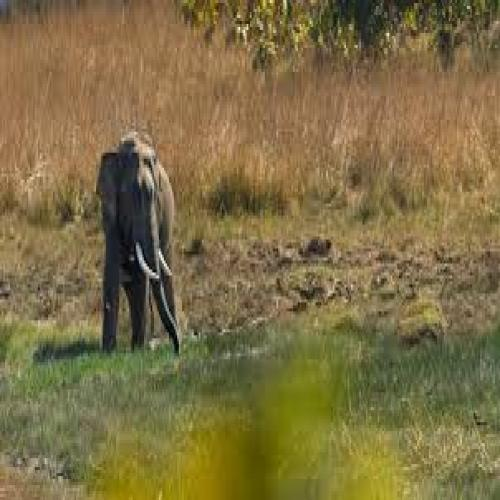asian_elephant-endangered: (97, 129, 181, 350)
